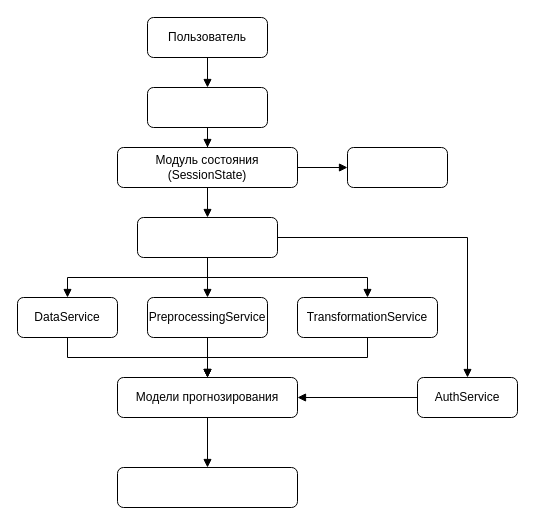
The diagram is 535 pixels wide and 525 high, and some of its shapes have lost their labels. The shapes that lost their labels are listed below. From the top down, each one's centre as x and y in pixels, then its label:
the point at 207,107: Streamlit UI
the point at 397,167: Supabase
the point at 207,237: Сервисный слой
the point at 207,487: Визуализация и результаты
